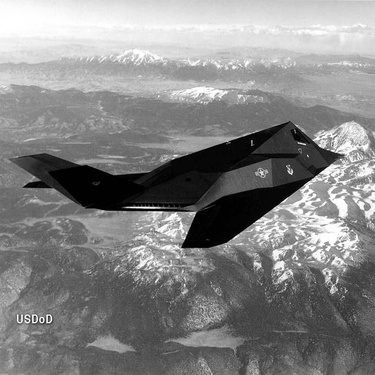airplane: (1, 113, 349, 256)
